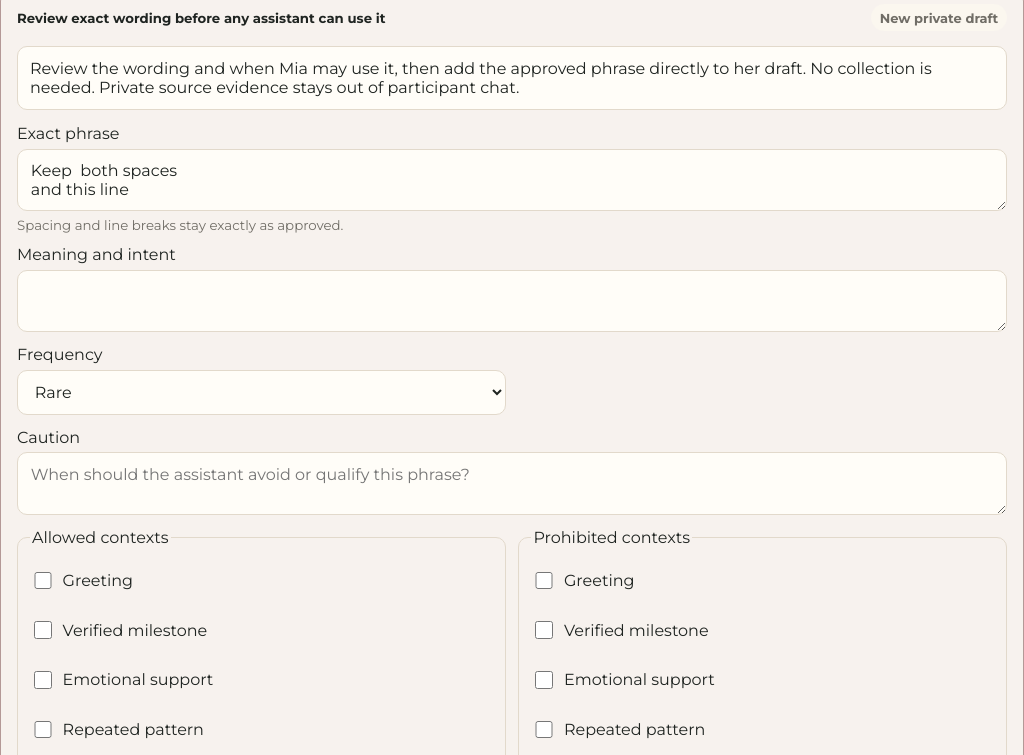
Test: CoachPhraseProposalPanel › retries an uncertain create without changing exact text
Type "Choose one practical action." into the text box labelled "Meaning and intent" at (512, 301), box [17,270,1007,332]
(page scrolled)
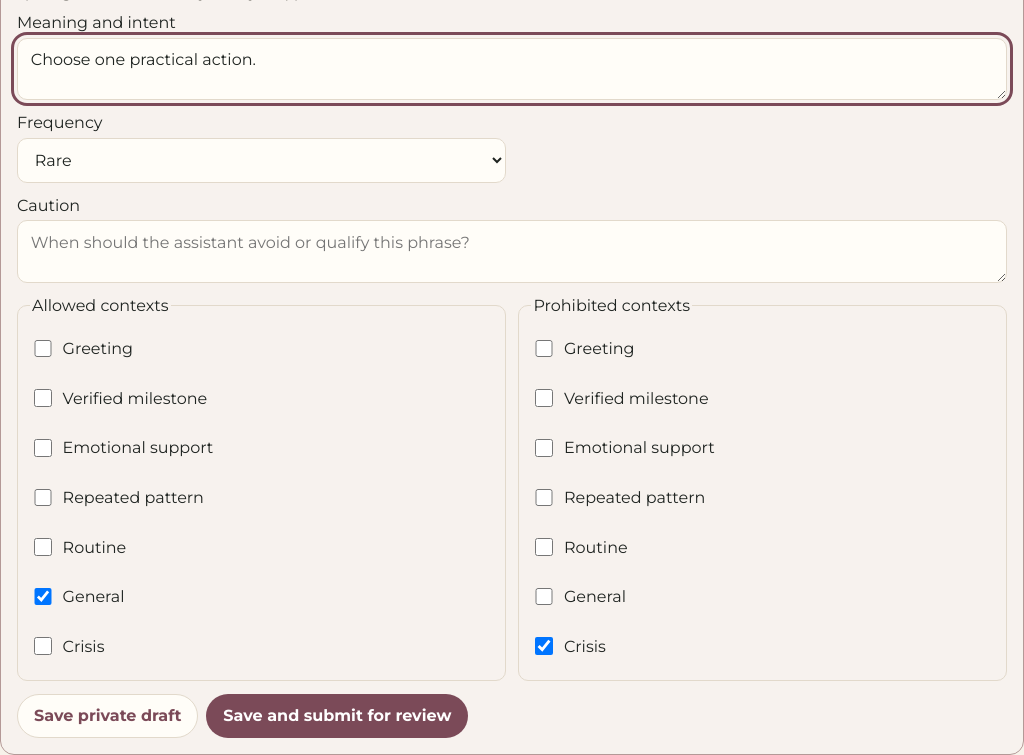
Click the button "Save private draft" at (108, 716), box [17,694,198,738]
(page scrolled)
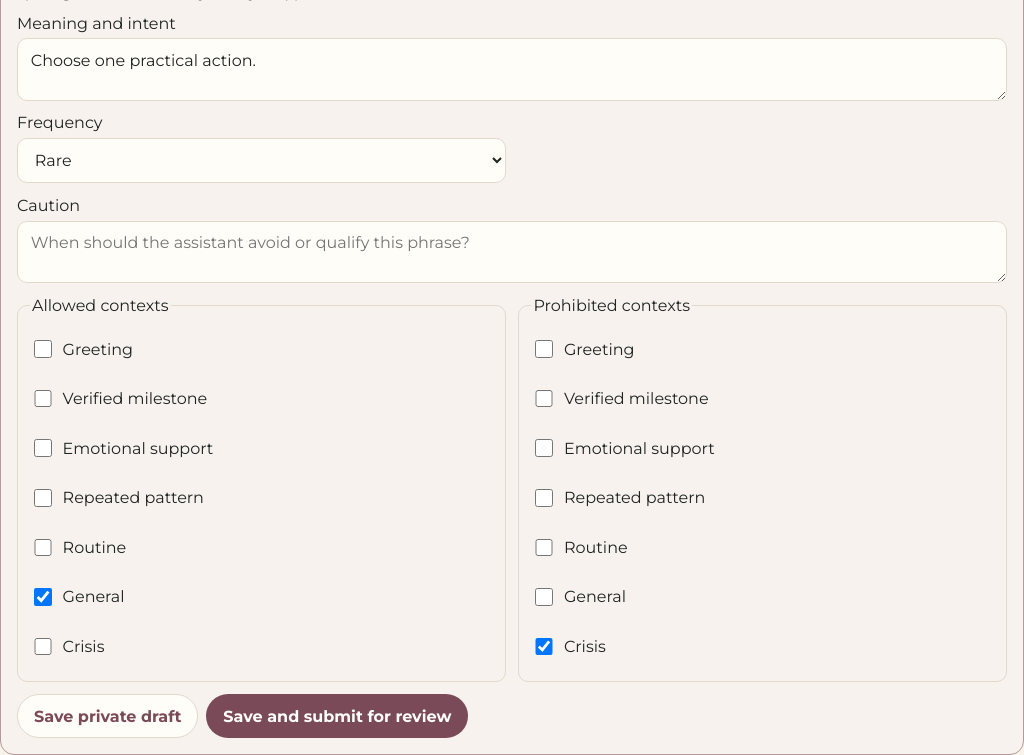
Click the button "Save private draft" at (108, 716), box [17,694,198,738]
(page scrolled)
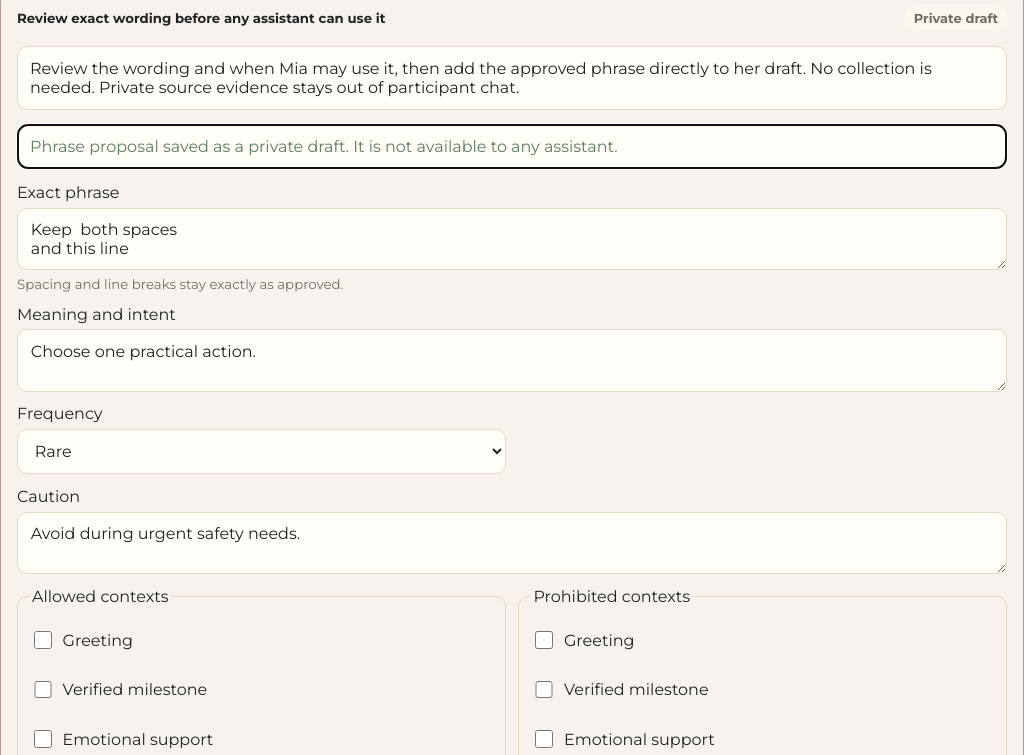
Expected: the text "saved as a private draft" is shown, [30,137,618,156]
